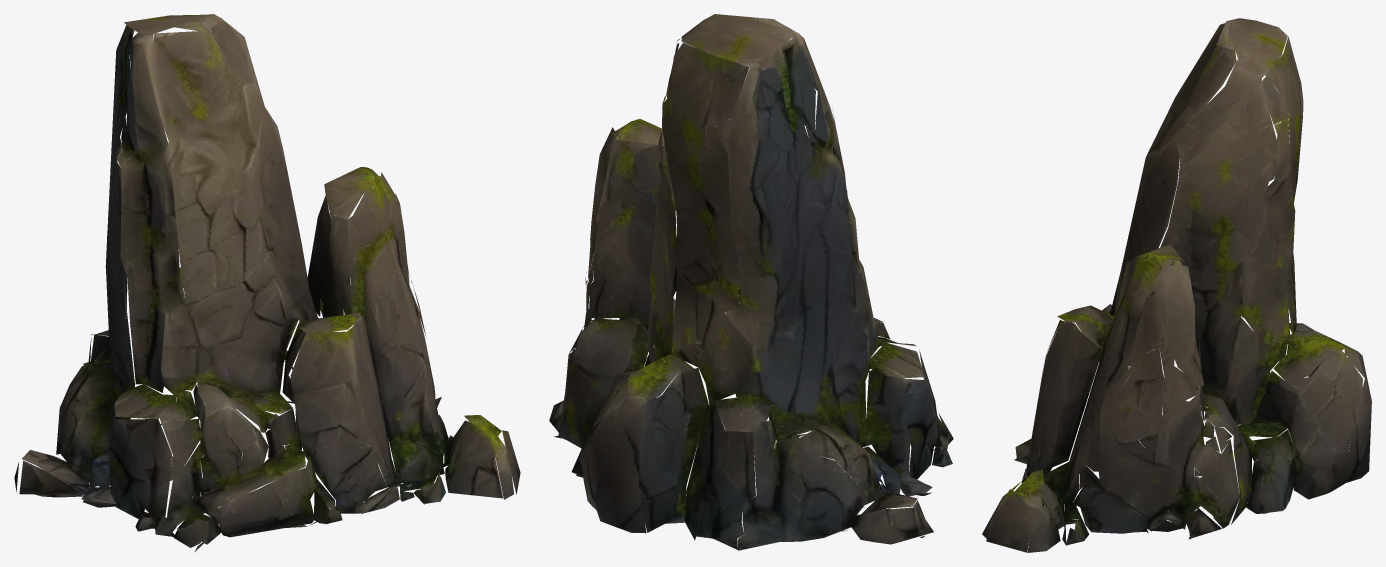
File: Rock01_2k.glb
3 renders of one model, left to right at view 1: azimuth 30°, elevation 25°; view 2: azimuth 150°, elevation 25°; view 3: azimuth 270°, elevation 25°, orthographic. The views are drawn at different scales.
Visible parts, largest first — view 1: textured_mesh.obj; view 2: textured_mesh.obj; view 3: textured_mesh.obj.
Boxes of the visible parts, bbox=[...] form: textured_mesh.obj: bbox=[14, 14, 520, 552]; textured_mesh.obj: bbox=[549, 14, 953, 550]; textured_mesh.obj: bbox=[982, 18, 1371, 552].
Bounding box in the file's own units: 1.88 × 1.99 × 1.67.
Materials: 1 (1 with a texture image).
